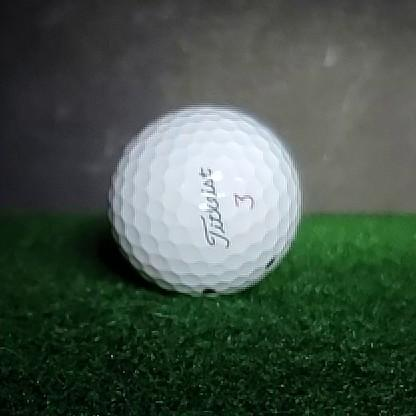golfball: (107, 105, 302, 298)
